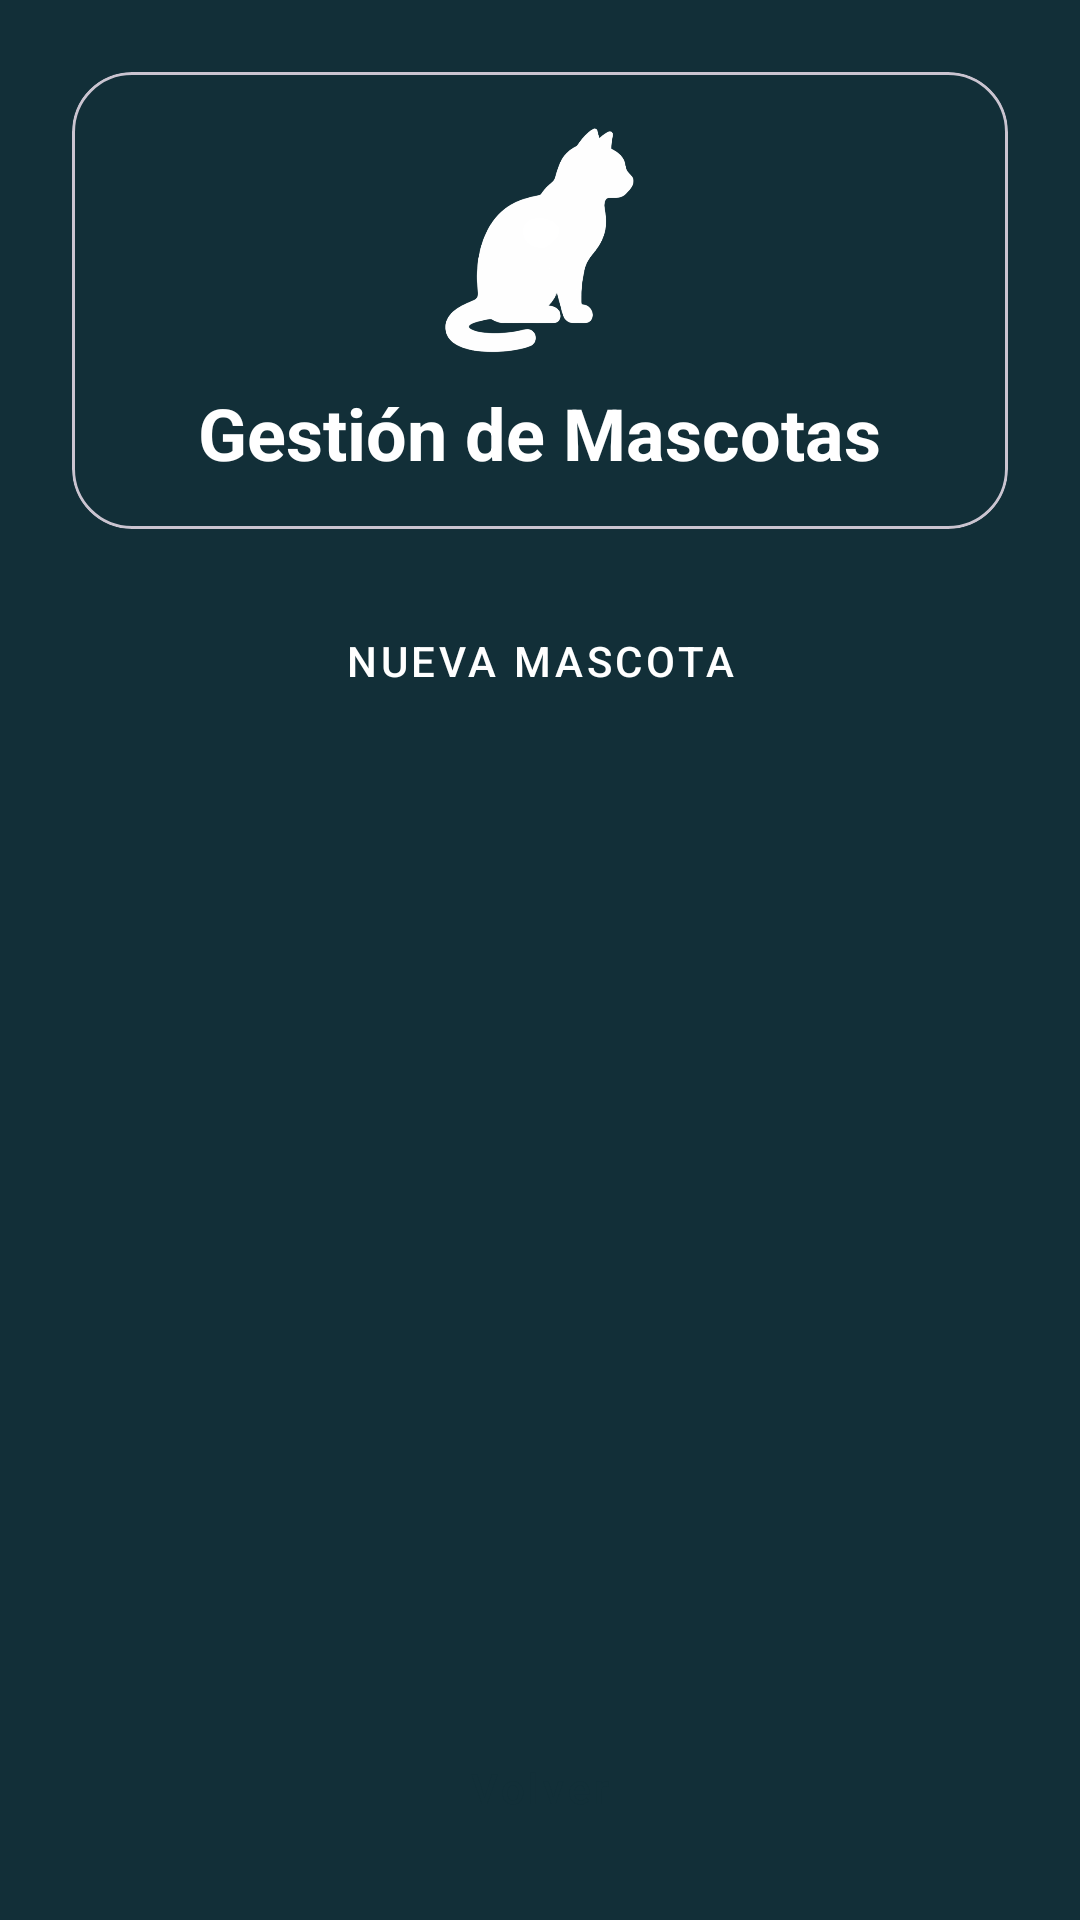

Where to tap for icons on this 1080px×1920px app screen, as [x,y]:
Icono Pacientes: [539,240]
